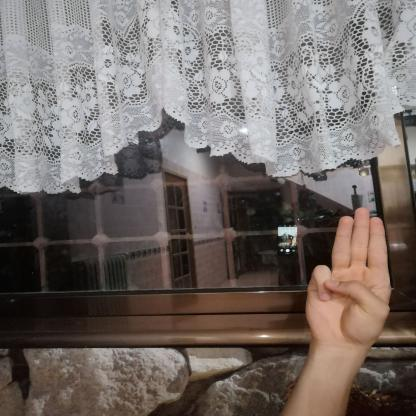THA: (292, 202, 398, 350)
